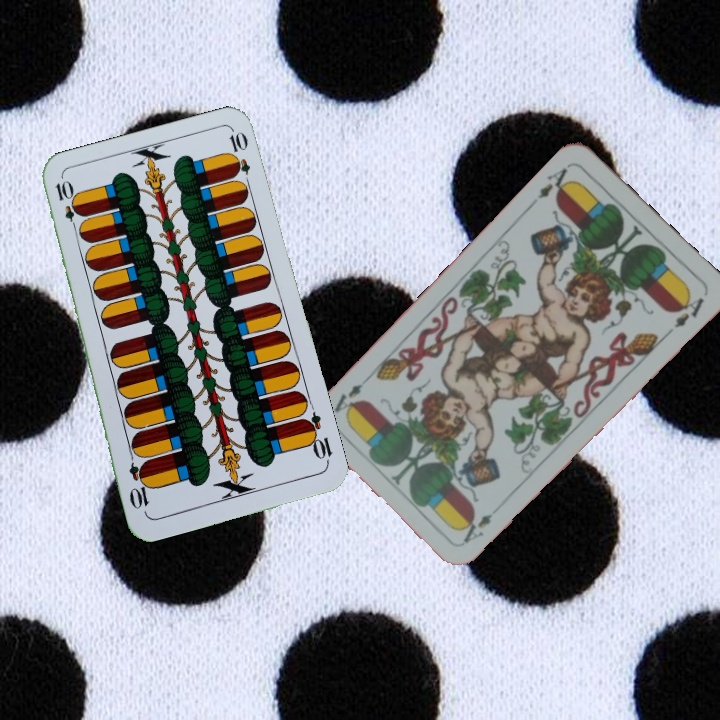E10: (298, 409, 335, 467), (51, 176, 82, 235)
EA: (527, 164, 576, 209), (459, 509, 495, 546)
